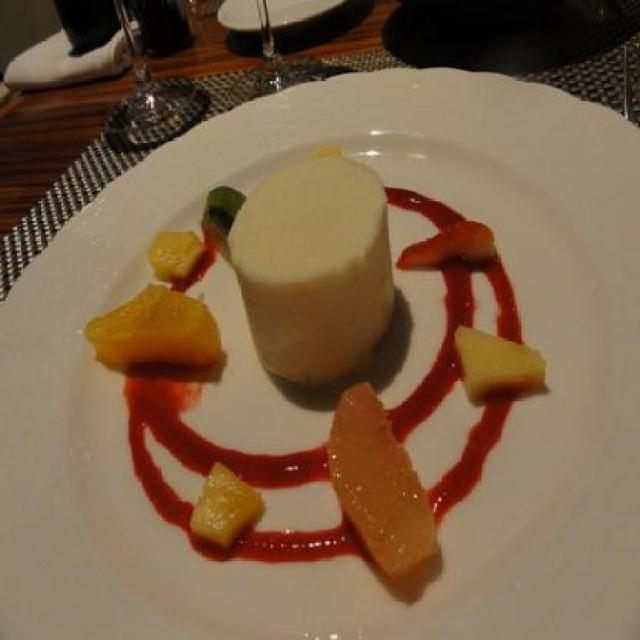Rare cheese cake: (98, 128, 570, 538)
